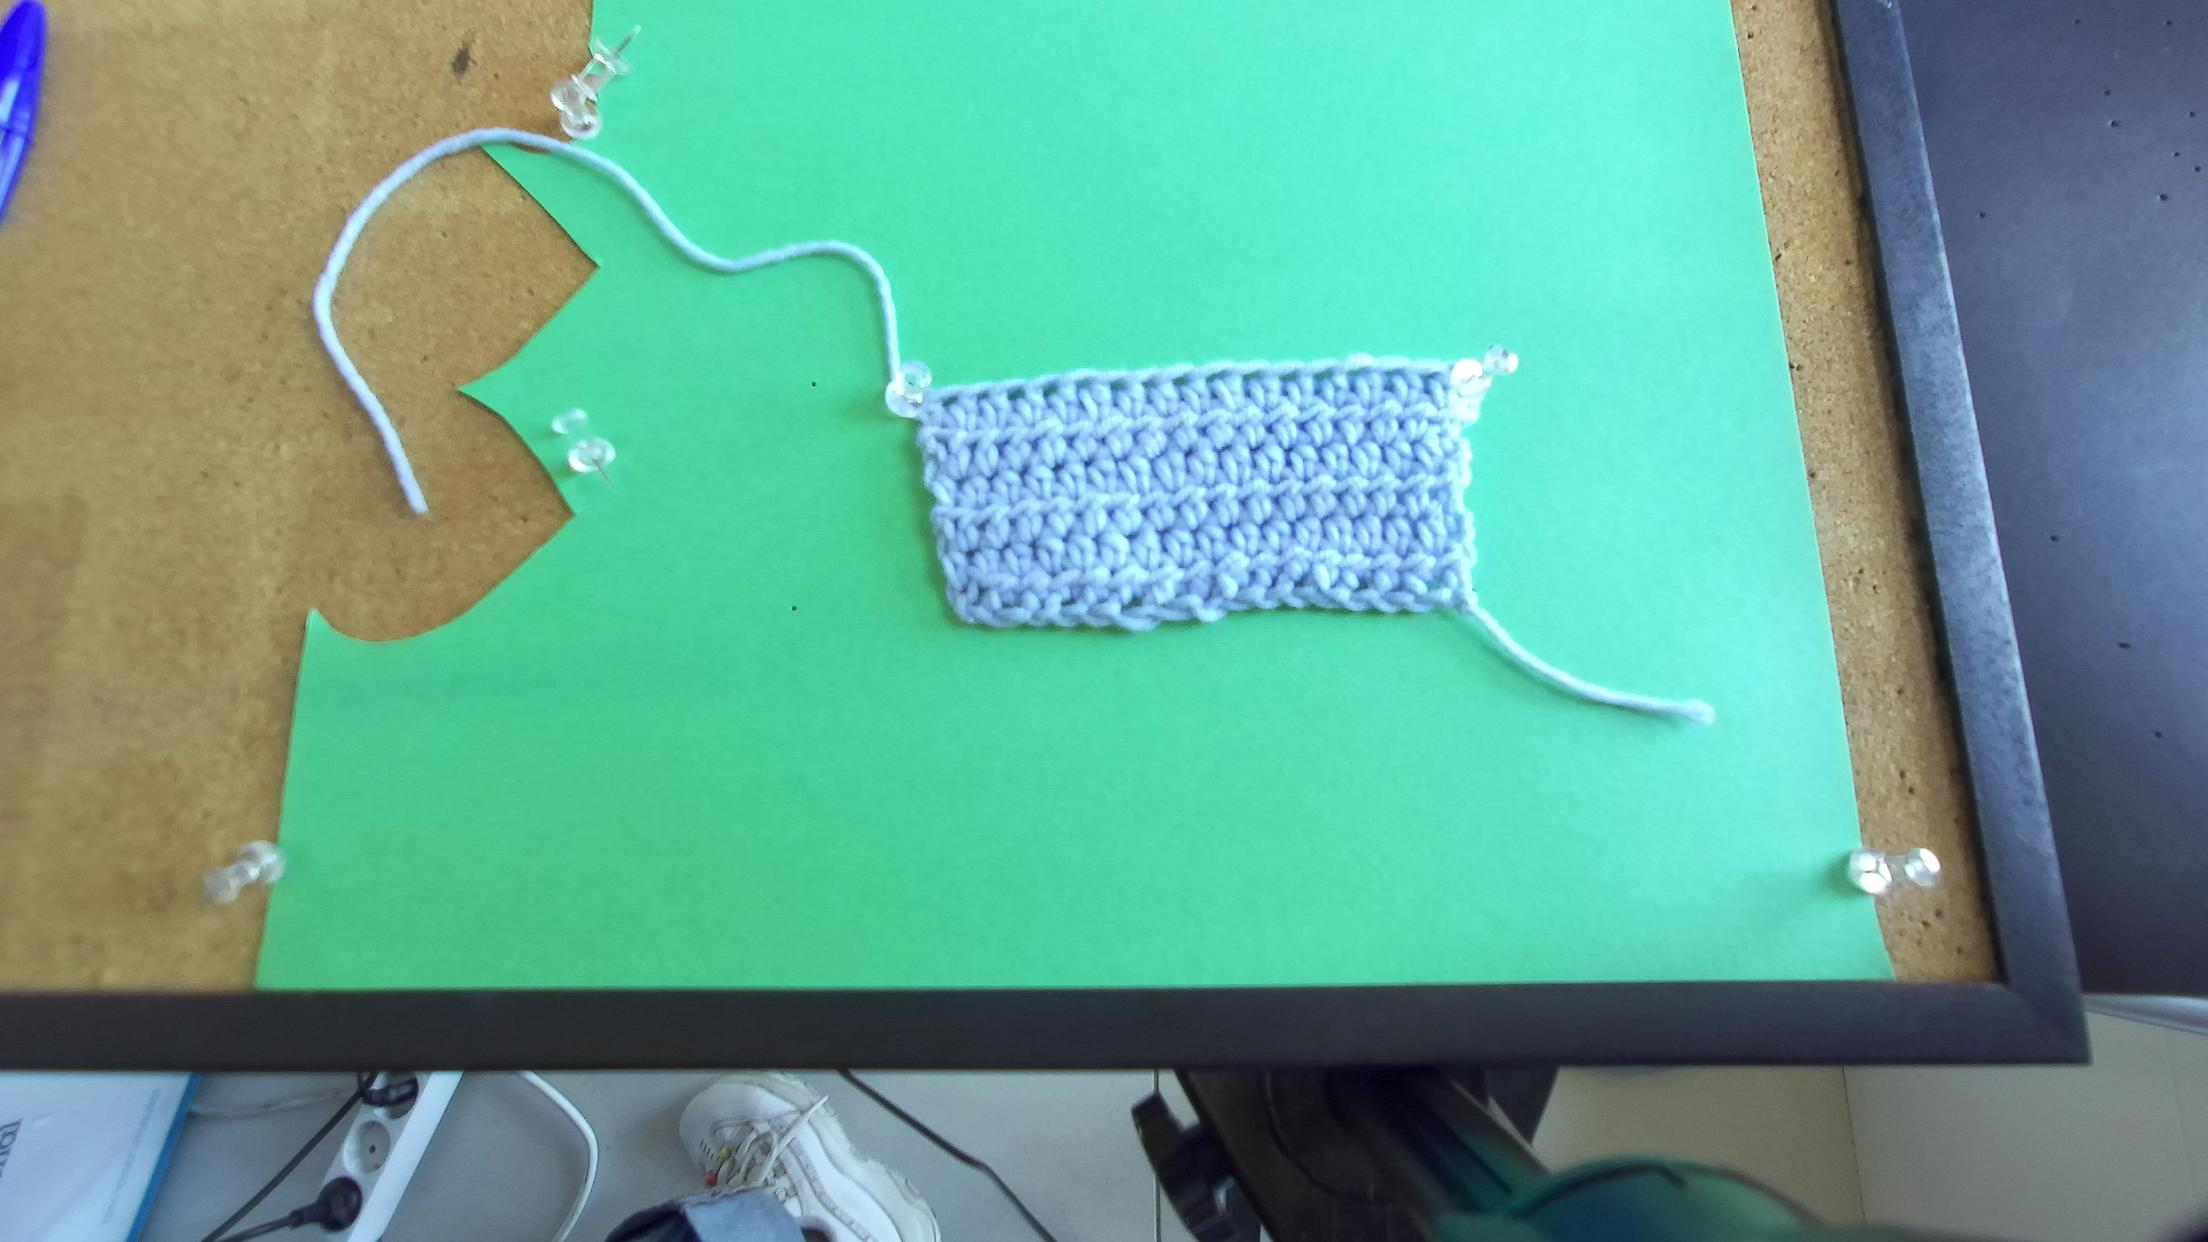hole: (1204, 369, 1230, 384), (1042, 379, 1059, 402), (1074, 378, 1093, 396), (1240, 369, 1262, 385), (1007, 385, 1027, 400), (1137, 375, 1157, 390), (1278, 367, 1297, 382), (1345, 365, 1368, 378), (940, 394, 960, 408), (1171, 373, 1190, 387), (1312, 369, 1333, 381), (1416, 372, 1439, 382), (1110, 379, 1130, 391), (975, 388, 989, 403), (1382, 369, 1404, 378)
swatch: (908, 356, 1486, 634)
